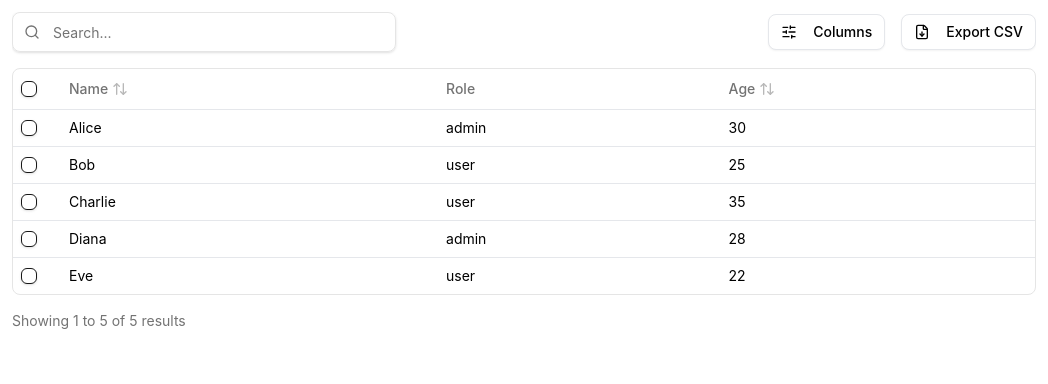
DataTable › Clear filters › shows Clear All button after searching
In the field with placeholder "Search...": (204, 32) left=12, top=12, right=396, bottom=52, type "alice"
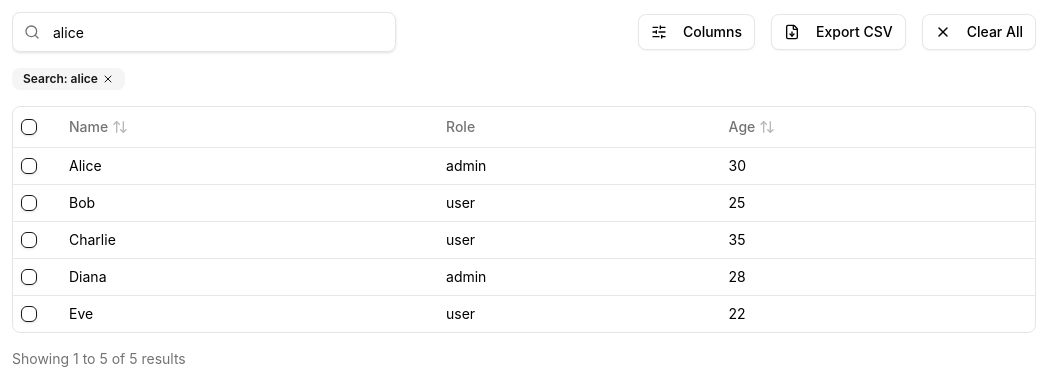
Now the button "Clear All" is shown, box left=922, top=14, right=1036, bottom=50
